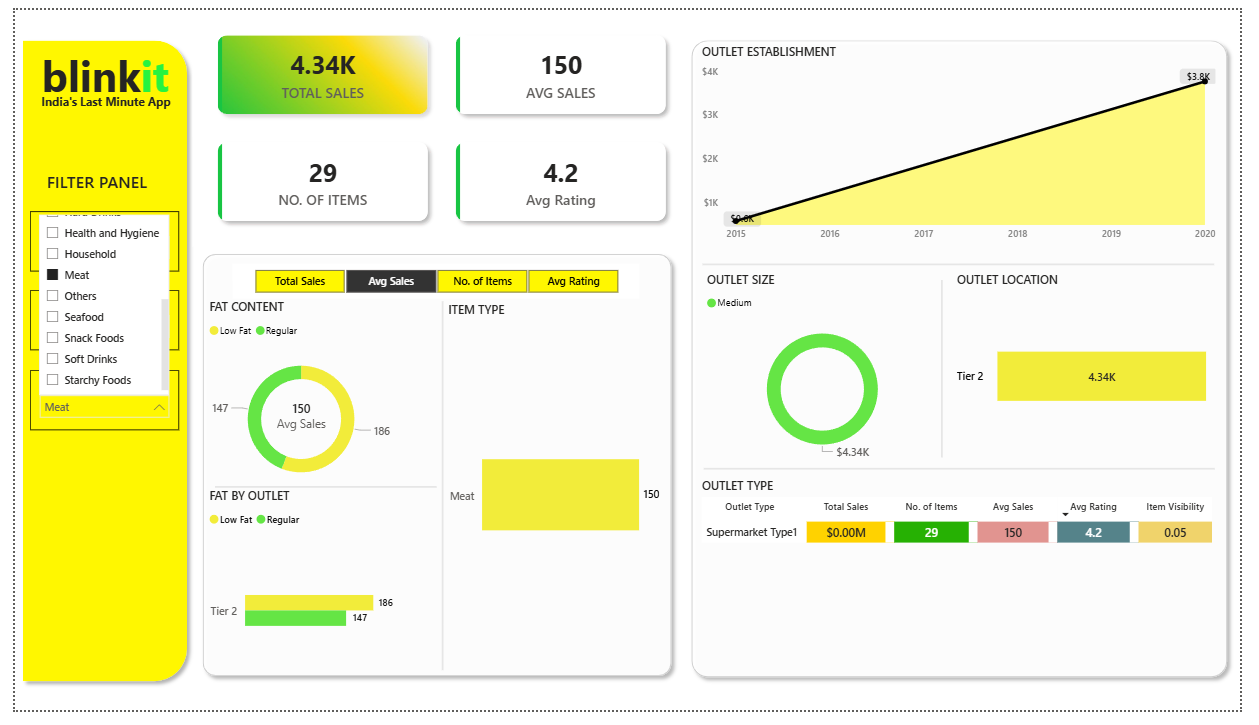

The dashboard page shown, as its layout file describes it:
{"tool":"powerbi","page":{"name":"Page 1","canvas":[1400,800],"ordinal":0},"visuals":[{"type":"shape","box":[0,25.5,205.6,750.4],"z":0},{"type":"textbox","box":[22.5,90.1,162.1,30],"z":1000},{"type":"textbox","box":[4.5,37.5,198.1,82.5],"z":2000},{"type":"cardVisual","fields":{"Data":["BlinkIT Grocery Data.Total Sales","BlinkIT Grocery Data.Avg Sales","BlinkIT Grocery Data.No. of Items","BlinkIT Grocery Data.Avg Rating"]},"box":[203.3,0,570,270],"z":3000},{"type":"shape","box":[205,270,553.3,500],"z":4000},{"type":"slicer","fields":{"Values":["Matrics.Matrics"]},"box":[248.3,290,465,40],"z":5000},{"type":"donutChart","title":"FAT CONTENT","fields":{"Y":["BlinkIT Grocery Data.Avg Sales"],"Category":["BlinkIT Grocery Data.Item Fat Content"]},"box":[216.7,330,220,230],"z":6000},{"type":"cardVisual","fields":{"Data":["BlinkIT Grocery Data.Avg Sales"]},"box":[245,425,163.3,75],"z":7000},{"type":"clusteredBarChart","title":"FAT BY OUTLET","fields":{"Y":["BlinkIT Grocery Data.Avg Sales"],"Category":["BlinkIT Grocery Data.Outlet Location Type"],"Series":["BlinkIT Grocery Data.Item Fat Content"]},"box":[216.7,545,220,230],"z":8000},{"type":"shape","box":[228.3,410,253.3,270],"z":9000},{"type":"shape","box":[353.3,333.3,271.7,421.7],"z":10000},{"type":"barChart","title":"ITEM TYPE","fields":{"Y":["BlinkIT Grocery Data.Avg Sales"],"Category":["BlinkIT Grocery Data.Item Type"]},"box":[490,333.3,251.7,421.7],"z":11000},{"type":"shape","box":[764.3,25.7,630,745.7],"z":12000},{"type":"lineChart","title":"OUTLET ESTABLISHMENT","fields":{"Category":["BlinkIT Grocery Data.Outlet Establishment Year"],"Y":["BlinkIT Grocery Data.Total Sales"]},"box":[780,38.6,597.1,234.3],"z":13000},{"type":"shape","box":[785,155,585,270],"z":14000},{"type":"donutChart","title":"OUTLET SIZE","fields":{"Y":["BlinkIT Grocery Data.Total Sales"],"Category":["BlinkIT Grocery Data.Outlet Size"]},"box":[785.7,298.6,274.3,224.3],"z":15000},{"type":"funnel","title":"OUTLET LOCATION","fields":{"Y":["Sum(BlinkIT Grocery Data.Sales)"],"Category":["BlinkIT Grocery Data.Outlet Location Type"]},"box":[1071.4,298.6,300,221.4],"z":16000},{"type":"shape","box":[922.9,308.6,272.9,202.9],"z":17000},{"type":"pivotTable","title":"OUTLET TYPE","fields":{"Rows":["BlinkIT Grocery Data.Outlet Type"],"Values":["BlinkIT Grocery Data.Total Sales","BlinkIT Grocery Data.No. of Items","BlinkIT Grocery Data.Avg Sales","BlinkIT Grocery Data.Avg Rating","Avg(BlinkIT Grocery Data.Item Visibility)"]},"box":[780,534.3,597.1,192.9],"z":18000},{"type":"shape","box":[787.1,388.6,584.3,271.4],"z":19000},{"type":"slicer","fields":{"Values":["BlinkIT Grocery Data.Outlet Location Type"]},"box":[17.1,230,170,68.6],"z":20000},{"type":"slicer","fields":{"Values":["BlinkIT Grocery Data.Outlet Size"]},"box":[17.1,320,170,68.6],"z":20001},{"type":"slicer","fields":{"Values":["BlinkIT Grocery Data.Item Type"]},"box":[17.1,411.4,170,68.6],"z":20002},{"type":"textbox","box":[31.4,178.6,142.9,38.6],"z":20003}]}

Visuals, with their boxes in screenshot pixels (x1, y1, x2, y2), scaled from the page's 1400x800 canvas onto the 1259x725 screenshot:
shape: [0, 23, 185, 703]
textbox: [20, 82, 166, 109]
textbox: [4, 34, 182, 109]
cardVisual - BlinkIT Grocery Data.Total Sales x BlinkIT Grocery Data.Avg Sales: [183, 0, 695, 245]
shape: [184, 245, 682, 698]
slicer - Matrics.Matrics: [223, 263, 641, 299]
"FAT CONTENT" donutChart: [195, 299, 393, 508]
cardVisual - BlinkIT Grocery Data.Avg Sales: [220, 385, 367, 453]
"FAT BY OUTLET" clusteredBarChart: [195, 494, 393, 702]
shape: [205, 372, 433, 616]
shape: [318, 302, 562, 684]
"ITEM TYPE" barChart: [441, 302, 667, 684]
shape: [687, 23, 1254, 699]
"OUTLET ESTABLISHMENT" lineChart: [701, 35, 1238, 247]
shape: [706, 140, 1232, 385]
"OUTLET SIZE" donutChart: [707, 271, 953, 474]
"OUTLET LOCATION" funnel: [963, 271, 1233, 471]
shape: [830, 280, 1075, 464]
"OUTLET TYPE" pivotTable: [701, 484, 1238, 659]
shape: [708, 352, 1233, 598]
slicer - BlinkIT Grocery Data.Outlet Location Type: [15, 208, 168, 271]
slicer - BlinkIT Grocery Data.Outlet Size: [15, 290, 168, 352]
slicer - BlinkIT Grocery Data.Item Type: [15, 373, 168, 435]
textbox: [28, 162, 157, 197]
